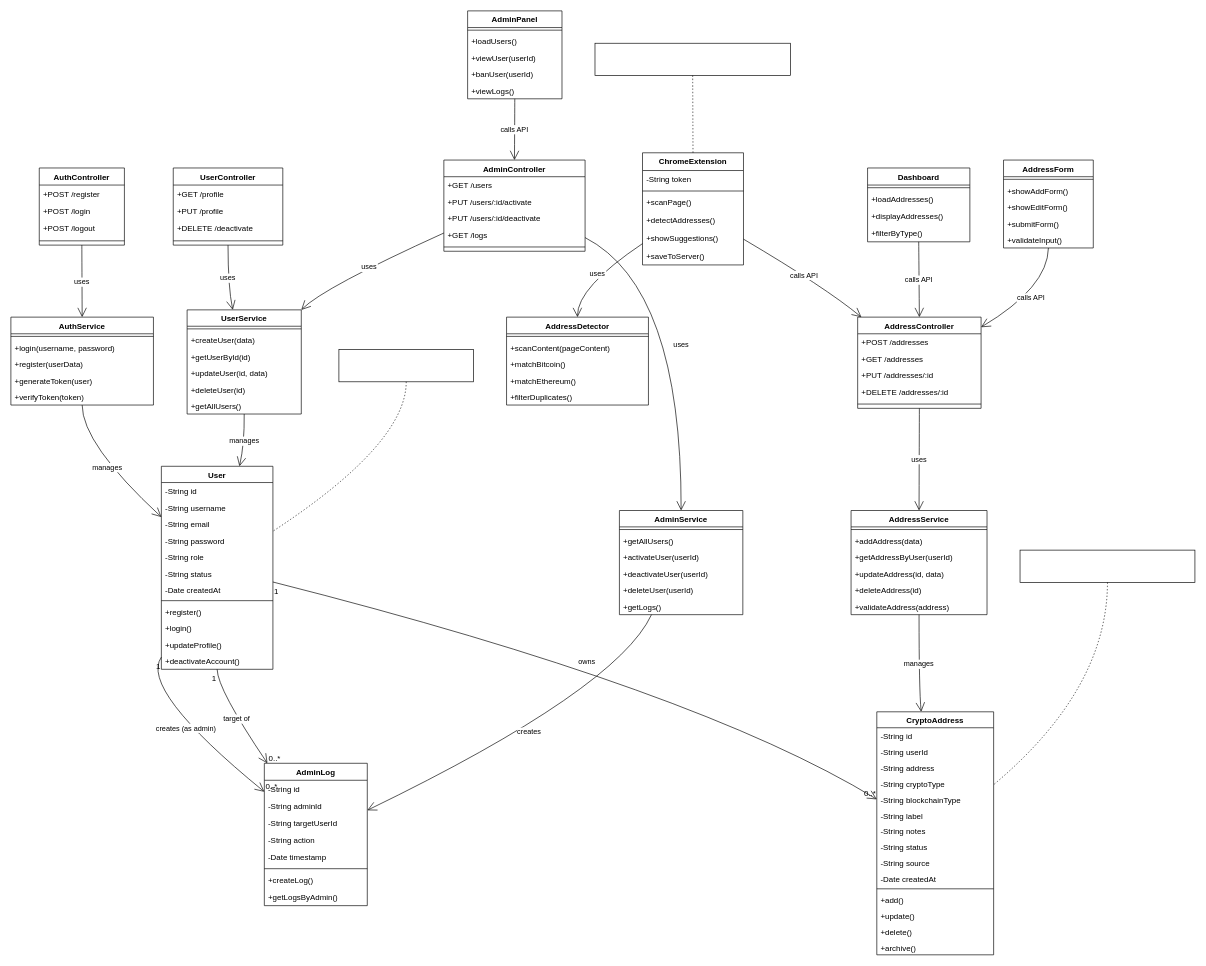
Image size: 1206x966. Some labels were removed from this diagram. The centre of each missing label's shape, as x and y in pixels:
Detects crypto addresses on web pages Suggests addresses to user for saving: [692,59]
role: 'user' or 'admin' status: 'active' or 'inactive': [406,365]
status: 'active' or 'archived' source: 'web' or 'chrome-extension': [1107,565]
